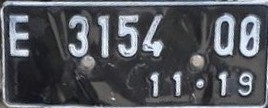plate: (2, 2, 268, 106)
